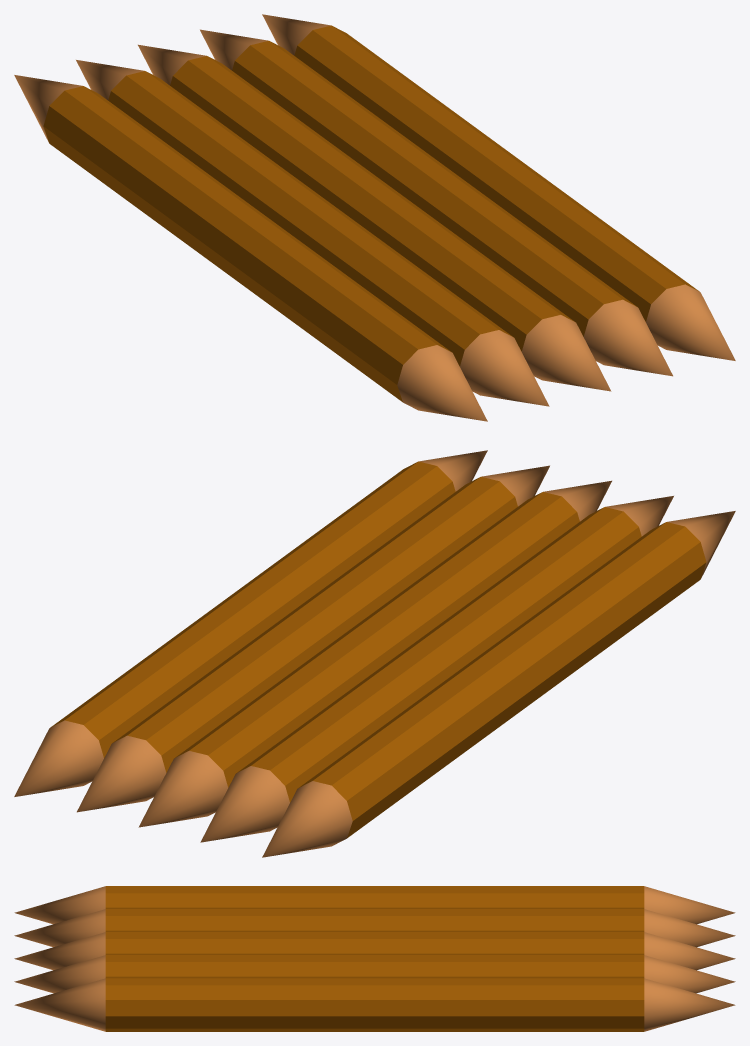
File: gBWoodPlatform_01.fbx
3 views of the same model, one above another, from view 1: azimuth 30°, elevation 25°; view 2: azimuth 150°, elevation 25°; view 3: azimuth 270°, elevation 25° (orthographic). The views are drawn at different scales.
Visible parts, largest first — view 1: woodPlatform_02, woodPlatform_05, woodPlatform_04, woodPlatform_03, woodPlatform_01; view 2: woodPlatform_02, woodPlatform_05, woodPlatform_04, woodPlatform_03, woodPlatform_01; view 3: woodPlatform_05, woodPlatform_04, woodPlatform_03, woodPlatform_01, woodPlatform_02.
Part boxes in pixels (<box>): woodPlatform_02: <box>14,75,487,421</box>; woodPlatform_05: <box>262,14,735,360</box>; woodPlatform_04: <box>200,29,672,376</box>; woodPlatform_03: <box>138,44,611,391</box>; woodPlatform_01: <box>76,60,549,406</box>; woodPlatform_02: <box>262,511,735,857</box>; woodPlatform_05: <box>14,450,487,796</box>; woodPlatform_04: <box>77,465,549,812</box>; woodPlatform_03: <box>138,480,611,827</box>; woodPlatform_01: <box>200,496,673,842</box>; woodPlatform_05: <box>14,978,735,1031</box>; woodPlatform_04: <box>14,955,735,993</box>; woodPlatform_03: <box>14,932,735,970</box>; woodPlatform_01: <box>14,909,735,947</box>; woodPlatform_02: <box>14,886,735,924</box>.
Size of the model in its own units: 151 by 28.53 by 402.
